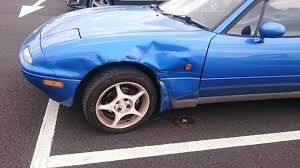Dent: (145, 42, 201, 104), (56, 50, 108, 79)
